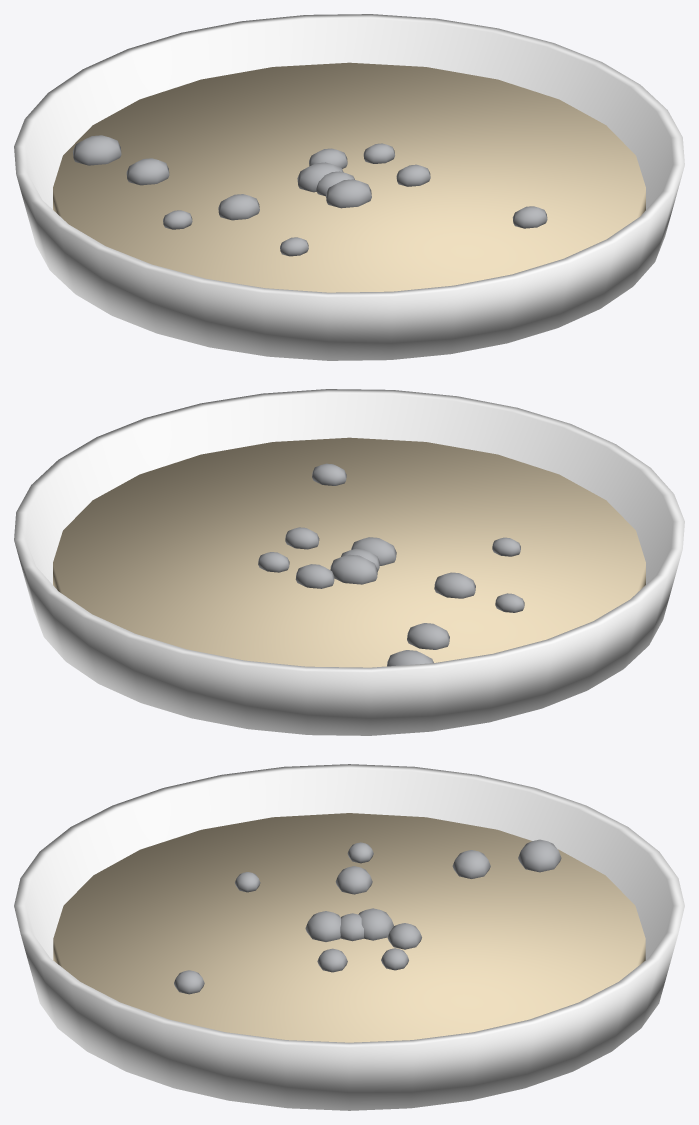
File: mix_sand_pebbles.glb
3 renders of one model, top to bottom at view 1: azimuth 30°, elevation 25°; view 2: azimuth 150°, elevation 25°; view 3: azimuth 270°, elevation 25°, orthographic.
Visible parts, largest first — view 1: mix_sand, mix_tray, mix_pebble5, mix_pebble9, mix_pebble4, mix_pebble2, mix_pebble0, mix_pebble3, mix_pebble11, mix_pebble6, mix_pebble10; view 2: mix_sand, mix_tray, mix_pebble0, mix_pebble4, mix_pebble2, mix_pebble10, mix_pebble9, mix_pebble3, mix_pebble11, mix_pebble5, mix_pebble6; view 3: mix_sand, mix_tray, mix_pebble5, mix_pebble9, mix_pebble4, mix_pebble0, mix_pebble2, mix_pebble10, mix_pebble1, mix_pebble3, mix_pebble11.
Boxes of the visible parts, left/top/right/bottom form: mix_sand: left=53, top=62, right=645, bottom=292; mix_tray: left=14, top=14, right=684, bottom=360; mix_pebble5: left=73, top=135, right=121, bottom=165; mix_pebble9: left=326, top=179, right=371, bottom=208; mix_pebble4: left=126, top=158, right=169, bottom=185; mix_pebble2: left=218, top=194, right=259, bottom=220; mix_pebble0: left=297, top=162, right=343, bottom=192; mix_pebble3: left=512, top=206, right=547, bottom=228; mix_pebble11: left=396, top=164, right=430, bottom=186; mix_pebble6: left=363, top=143, right=394, bottom=163; mix_pebble10: left=309, top=148, right=347, bottom=168; mix_sand: left=53, top=437, right=645, bottom=667; mix_tray: left=14, top=389, right=684, bottom=735; mix_pebble0: left=330, top=554, right=377, bottom=584; mix_pebble4: left=407, top=623, right=449, bottom=649; mix_pebble2: left=434, top=572, right=475, bottom=598; mix_pebble10: left=295, top=564, right=334, bottom=588; mix_pebble9: left=351, top=537, right=396, bottom=565; mix_pebble3: left=312, top=463, right=346, bottom=485; mix_pebble11: left=285, top=527, right=319, bottom=549; mix_pebble5: left=387, top=650, right=433, bottom=666; mix_pebble6: left=258, top=552, right=289, bottom=572; mix_sand: left=53, top=813, right=645, bottom=1042; mix_tray: left=14, top=764, right=684, bottom=1110; mix_pebble5: left=518, top=839, right=561, bottom=872; mix_pebble9: left=305, top=911, right=340, bottom=941; mix_pebble4: left=452, top=850, right=490, bottom=878; mix_pebble0: left=358, top=908, right=393, bottom=940; mix_pebble2: left=335, top=866, right=372, bottom=894; mix_pebble10: left=387, top=923, right=421, bottom=949; mix_pebble1: left=340, top=913, right=363, bottom=941; mix_pebble3: left=174, top=970, right=204, bottom=994; mix_pebble11: left=317, top=948, right=347, bottom=972.
Bounding box in the file's own units: 0.17 × 0.02 × 0.17.
